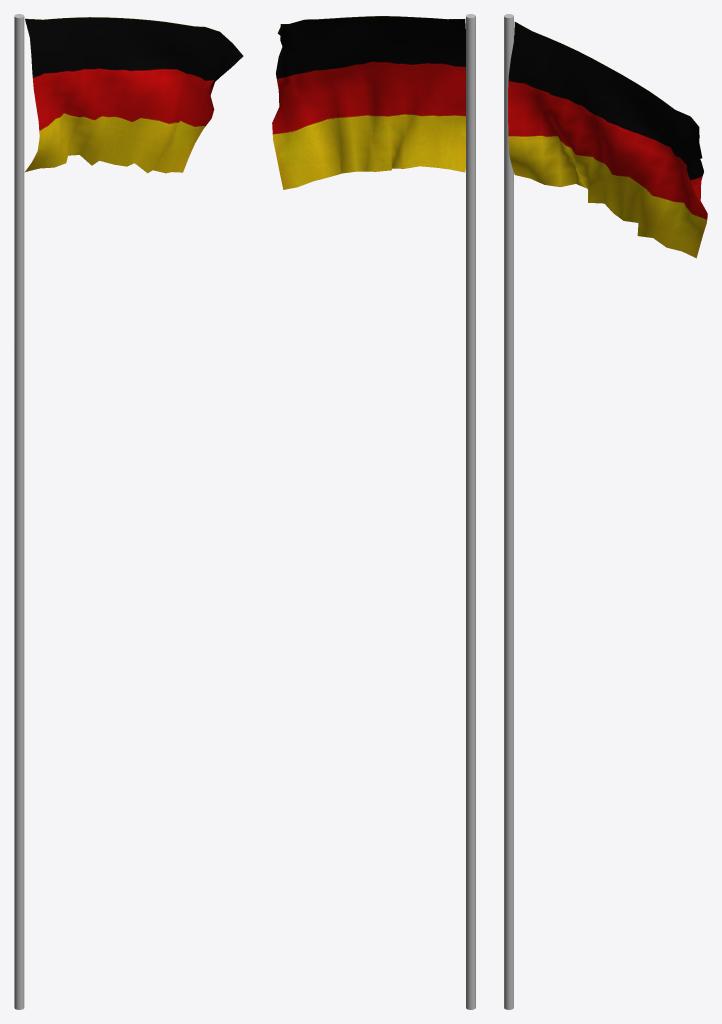
Rendered from Flag_Germany.fbx.
3 renders of one model, left to right at view 1: azimuth 30°, elevation 25°; view 2: azimuth 150°, elevation 25°; view 3: azimuth 330°, elevation 25°, orthographic.
Visible parts, largest first — view 1: Germany_Front, Pole, Germany_Back; view 2: Germany_Front, Pole, Germany_Back; view 3: Germany_Front, Pole, Germany_Back.
Boxes of the visible parts, x1,y1,x2,y2 form: Germany_Front: [25, 17, 243, 173]; Pole: [14, 14, 24, 1009]; Germany_Back: [26, 17, 241, 172]; Germany_Front: [272, 16, 465, 189]; Pole: [466, 14, 475, 1009]; Germany_Back: [272, 16, 465, 189]; Germany_Front: [508, 22, 707, 258]; Pole: [504, 14, 513, 1009]; Germany_Back: [508, 22, 707, 256].
Size of the model in its own units: 206 by 914 by 46.54.
